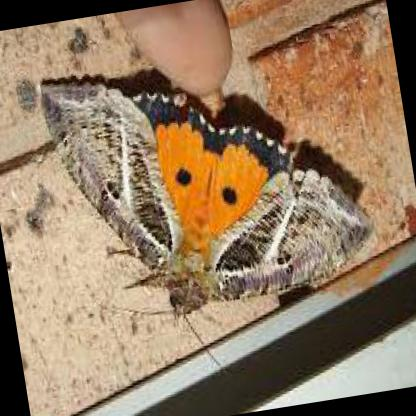fruit sucking moth: (40, 80, 373, 317)
